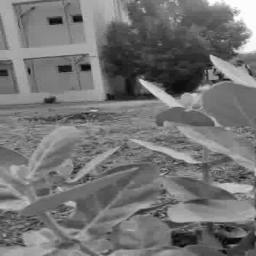Calotropis: (0, 126, 255, 250), (147, 68, 255, 129)
